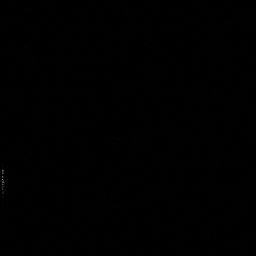ship: (1, 167, 4, 193)
